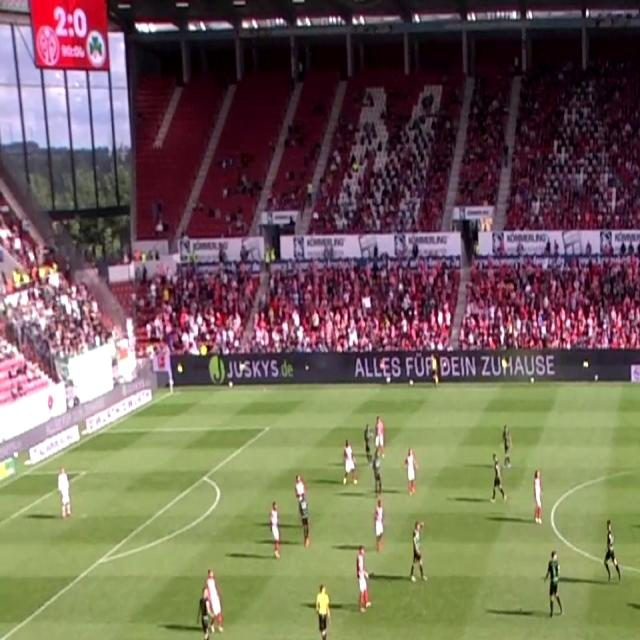goalkeeper: (53, 467, 78, 525)
referee: (305, 580, 339, 640)
soccer-player: (187, 564, 227, 640), (539, 547, 570, 622), (289, 472, 315, 553), (600, 518, 627, 588), (351, 542, 376, 615), (262, 499, 290, 564), (407, 519, 432, 588), (361, 412, 387, 468), (339, 436, 362, 489), (488, 452, 510, 507), (531, 468, 550, 529), (403, 444, 423, 498), (369, 496, 388, 552), (497, 421, 516, 469)
